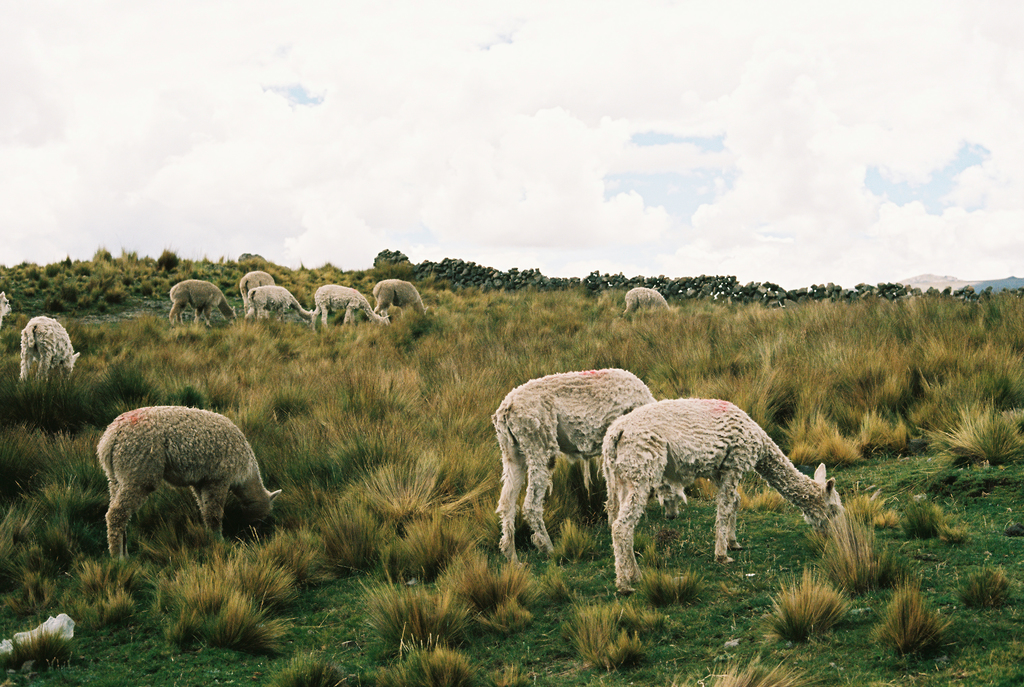sheep: (19, 312, 82, 381)
